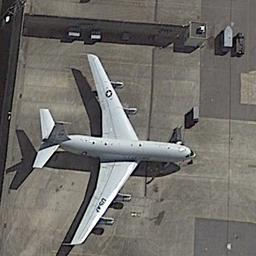Airplane: (30, 42, 196, 246)
